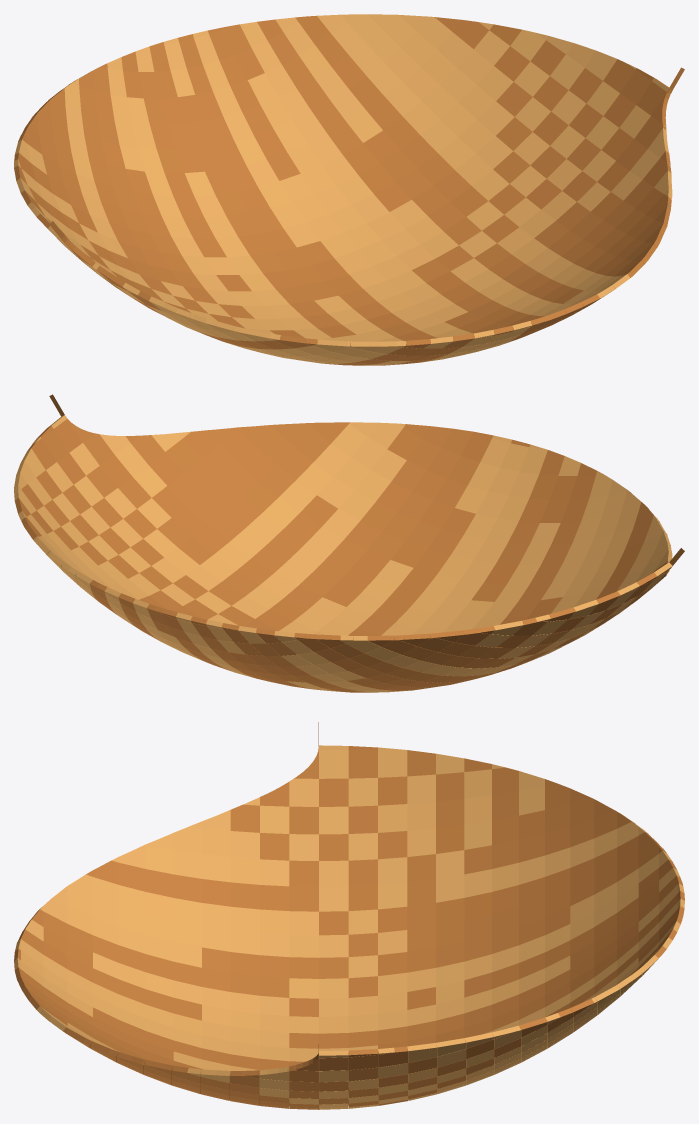
File: 內部圓弧木板結構預覽.obj
The picture shows the model from 3 angles, top to bottom: view 1: azimuth 30°, elevation 25°; view 2: azimuth 150°, elevation 25°; view 3: azimuth 270°, elevation 25°; orthographic projection. The views are drawn at different scales.
Parts seen in each view (by area): view 1: TroughPanel_032_F40, TroughPanel_031_F39, TroughPanel_050_F58, TroughPanel_030_F38, TroughPanel_015_F23, TroughPanel_052_F60, TroughPanel_049_F57, TroughPanel_074_F82, TroughPanel_060_F68, TroughPanel_058_F66, TroughPanel_054_F62, TroughPanel_076_F84 (+131 smaller); view 2: TroughPanel_059_F67, TroughPanel_083_F91, TroughPanel_085_F93, TroughPanel_107_F115, TroughPanel_109_F117, TroughPanel_138_F146, TroughPanel_111_F119, TroughPanel_136_F144, TroughPanel_134_F142, TroughPanel_087_F95, TroughPanel_140_F148, TroughPanel_061_F69 (+129 smaller); view 3: TroughPanel_595_F603, TroughPanel_594_F602, TroughPanel_581_F589, TroughPanel_582_F590, TroughPanel_592_F600, TroughPanel_583_F591, TroughPanel_596_F604, TroughPanel_577_F585, TroughPanel_578_F586, TroughPanel_576_F584, TroughPanel_579_F587, TroughPanel_580_F588 (+97 smaller).
Part boxes in pixels (bbox=[...]): TroughPanel_032_F40: bbox=[474, 30, 509, 65]; TroughPanel_031_F39: bbox=[494, 46, 529, 81]; TroughPanel_050_F58: bbox=[477, 66, 513, 100]; TroughPanel_030_F38: bbox=[514, 61, 549, 96]; TroughPanel_015_F23: bbox=[530, 40, 565, 75]; TroughPanel_052_F60: bbox=[457, 49, 493, 84]; TroughPanel_049_F57: bbox=[496, 82, 532, 116]; TroughPanel_074_F82: bbox=[477, 101, 514, 135]; TroughPanel_060_F68: bbox=[420, 50, 456, 84]; TroughPanel_058_F66: bbox=[440, 68, 476, 102]; TroughPanel_054_F62: bbox=[437, 32, 473, 67]; TroughPanel_076_F84: bbox=[459, 85, 495, 119]; TroughPanel_059_F67: bbox=[219, 428, 256, 462]; TroughPanel_083_F91: bbox=[256, 430, 293, 463]; TroughPanel_085_F93: bbox=[238, 447, 275, 480]; TroughPanel_107_F115: bbox=[294, 428, 331, 461]; TroughPanel_109_F117: bbox=[276, 447, 313, 479]; TroughPanel_138_F146: bbox=[296, 462, 333, 494]; TroughPanel_111_F119: bbox=[258, 464, 295, 496]; TroughPanel_136_F144: bbox=[314, 443, 350, 476]; TroughPanel_134_F142: bbox=[331, 423, 367, 456]; TroughPanel_087_F95: bbox=[221, 463, 257, 495]; TroughPanel_140_F148: bbox=[279, 480, 316, 512]; TroughPanel_061_F69: bbox=[201, 444, 237, 477]; TroughPanel_595_F603: bbox=[348, 749, 377, 778]; TroughPanel_594_F602: bbox=[319, 750, 348, 778]; TroughPanel_581_F589: bbox=[319, 778, 348, 806]; TroughPanel_582_F590: bbox=[348, 777, 377, 806]; TroughPanel_592_F600: bbox=[289, 778, 318, 806]; TroughPanel_583_F591: bbox=[378, 776, 407, 805]; TroughPanel_596_F604: bbox=[378, 749, 407, 777]; TroughPanel_577_F585: bbox=[289, 806, 318, 834]; TroughPanel_578_F586: bbox=[319, 806, 348, 834]; TroughPanel_576_F584: bbox=[260, 805, 289, 833]; TroughPanel_579_F587: bbox=[348, 805, 377, 833]; TroughPanel_580_F588: bbox=[378, 804, 407, 832].
Bounding box in the file's own units: 126 × 34.22 × 111.
